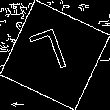L_S: (32, 26, 78, 84)
